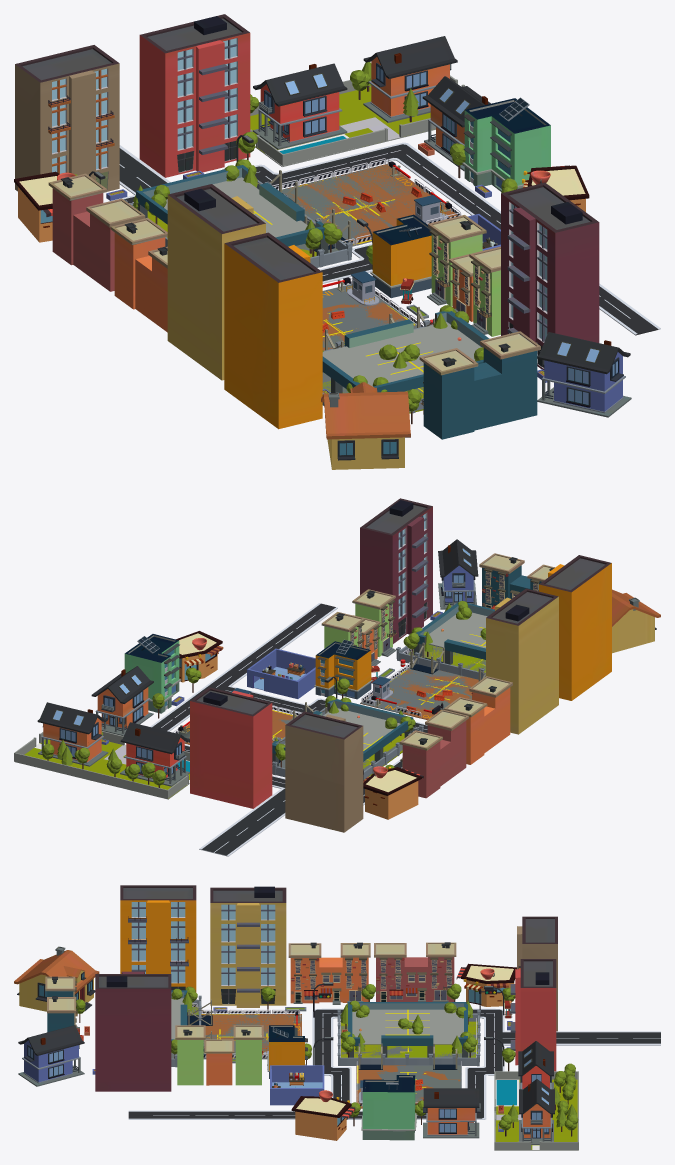
The model's file is final level 1 parking lott.fbx.
The picture shows the model from 3 angles, top to bottom: view 1: azimuth 30°, elevation 25°; view 2: azimuth 150°, elevation 25°; view 3: azimuth 270°, elevation 25°; orthographic projection. The views are drawn at different scales.
Visible parts, largest first — view 1: Big building, Big building.002, Big building.004, Big building.003, Big building.001, BUILDING2.003, Road.001, upgrade parking floor 2, HOUSE 2, BUILDING 2.001, BUILDIMG1, HOUSE 1.001 (+17 smaller); view 2: Big building.002, Big building.003, Big building.001, Big building.004, Big building, Road.001, BUILDIMG1, Plane, BUILDING2, HOUSE 1.001, HOUSE 1, HOUSE 1.002 (+17 smaller); view 3: Big building.004, Big building.001, Road.001, Big building, upgrade parking floor 1, BUILDING2, BUILDIMG1, Big building.002, BUILDING 2.001, Plane, HOUSE 1.005, HOUSE 1.002 (+21 smaller).
Part boxes in pixels (x1=…): Big building: x1=224, y1=232, x2=322, y2=429; Big building.002: x1=139, y1=14, x2=250, y2=177; Big building.004: x1=501, y1=182, x2=599, y2=369; Big building.003: x1=15, y1=45, x2=119, y2=191; Big building.001: x1=167, y1=184, x2=265, y2=380; BUILDING2.003: x1=419, y1=331, x2=540, y2=439; Road.001: x1=103, y1=142, x2=660, y2=335; upgrade parking floor 2: x1=322, y1=311, x2=489, y2=393; HOUSE 2: x1=321, y1=382, x2=410, y2=469; BUILDING 2.001: x1=462, y1=97, x2=550, y2=191; BUILDIMG1: x1=48, y1=173, x2=145, y2=291; HOUSE 1.001: x1=253, y1=63, x2=347, y2=149; Big building.002: x1=190, y1=687, x2=272, y2=808; Big building.003: x1=285, y1=711, x2=363, y2=832; Big building.001: x1=486, y1=588, x2=558, y2=734; Big building.004: x1=360, y1=498, x2=432, y2=643; Big building: x1=539, y1=555, x2=611, y2=700; Road.001: x1=150, y1=603, x2=427, y2=856; BUILDIMG1: x1=399, y1=709, x2=468, y2=798; Plane: x1=14, y1=731, x2=189, y2=799; BUILDING2: x1=444, y1=676, x2=512, y2=764; HOUSE 1.001: x1=120, y1=722, x2=189, y2=786; HOUSE 1: x1=37, y1=702, x2=108, y2=766; HOUSE 1.002: x1=91, y1=666, x2=153, y2=735; Big building.004: x1=95, y1=971, x2=171, y2=1091; Big building.001: x1=210, y1=886, x2=286, y2=1007; Road.001: x1=128, y1=1008, x2=660, y2=1119; Big building: x1=120, y1=885, x2=196, y2=992; upgrade parking floor 1: x1=348, y1=1002, x2=467, y2=1057; BUILDING2: x1=288, y1=942, x2=370, y2=1004; BUILDIMG1: x1=374, y1=942, x2=456, y2=1001; Big building.002: x1=510, y1=959, x2=556, y2=1071; BUILDING 2.001: x1=361, y1=1075, x2=416, y2=1140; Plane: x1=494, y1=1071, x2=578, y2=1150; HOUSE 1.005: x1=18, y1=1025, x2=84, y2=1086; HOUSE 1.002: x1=423, y1=1088, x2=480, y2=1138.
Size of the model in its own units: 75.11 by 22.87 by 123.
